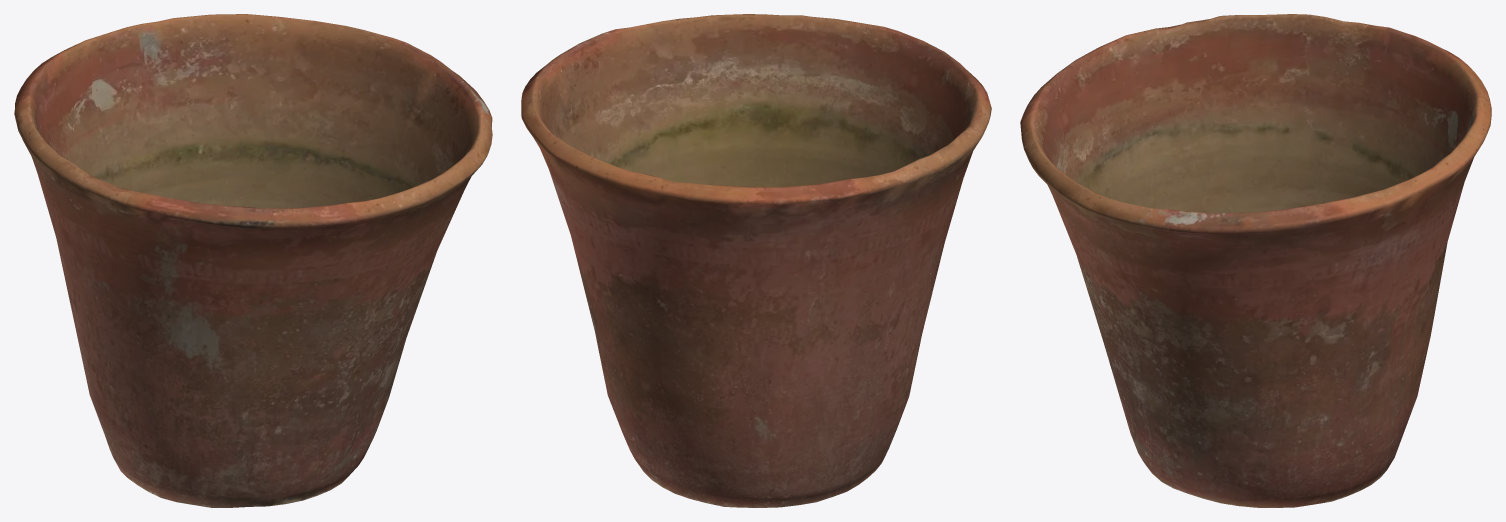
The model's file is assets__ph__planter_pot_clay.glb.
The picture shows the model from 3 angles, left to right: view 1: azimuth 30°, elevation 25°; view 2: azimuth 150°, elevation 25°; view 3: azimuth 270°, elevation 25°; orthographic projection.
Visible parts, largest first — view 1: planter_pot_clay; view 2: planter_pot_clay; view 3: planter_pot_clay.
Boxes of the visible parts, box(x1,y1,x2,y2) form: planter_pot_clay: box(14, 14, 492, 507); planter_pot_clay: box(521, 14, 991, 507); planter_pot_clay: box(1020, 14, 1491, 507).
Size of the model in its own units: 0.266 by 0.2219 by 0.2635.
1 material, 1 textured.
